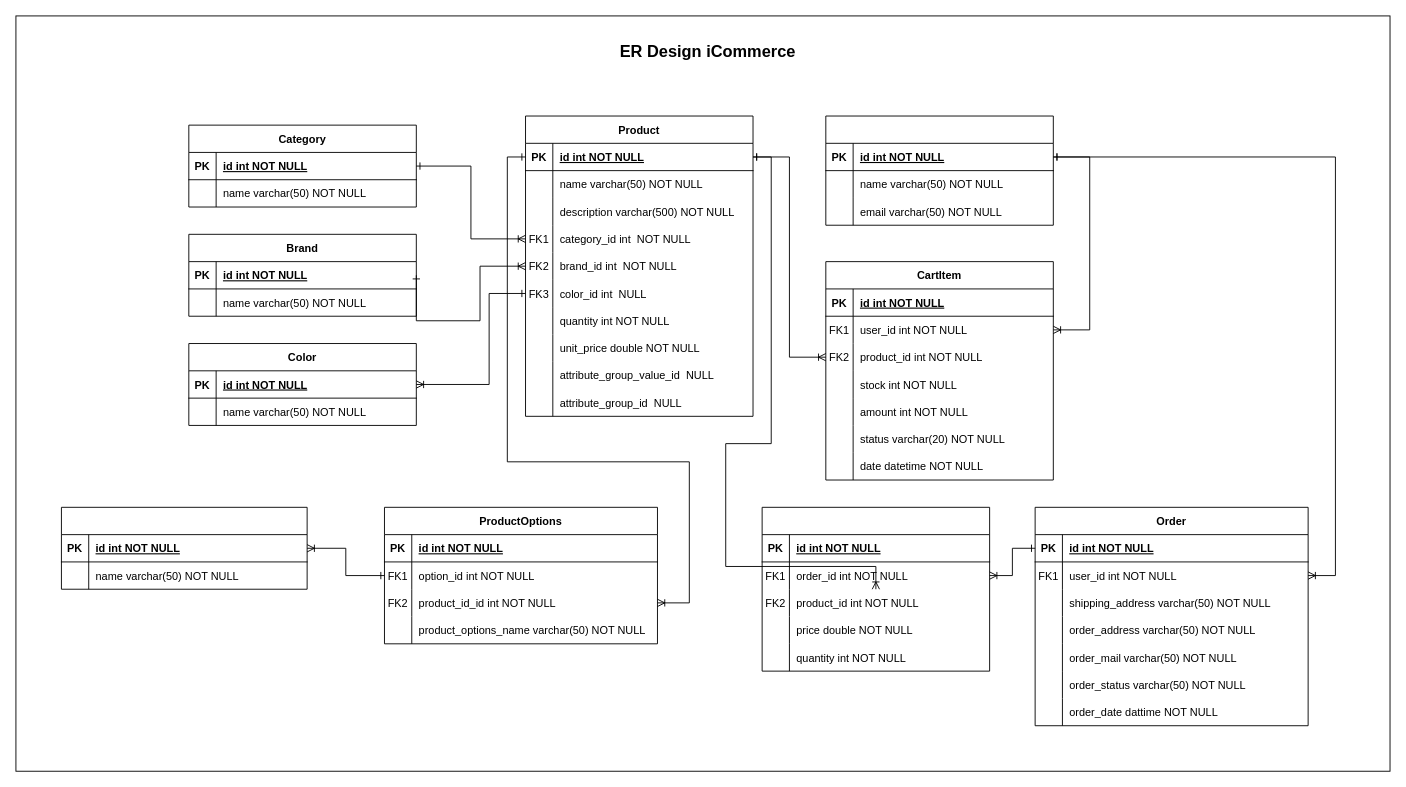
The diagram is 1406 pixels wide and 787 high, and some of its shapes have lost their labels. Here are the shapes that lost their labels. From the top down, the box of each, then its label:
(825, 115, 1053, 225): User
(61, 506, 307, 589): Options
(761, 506, 990, 671): OrderItem
